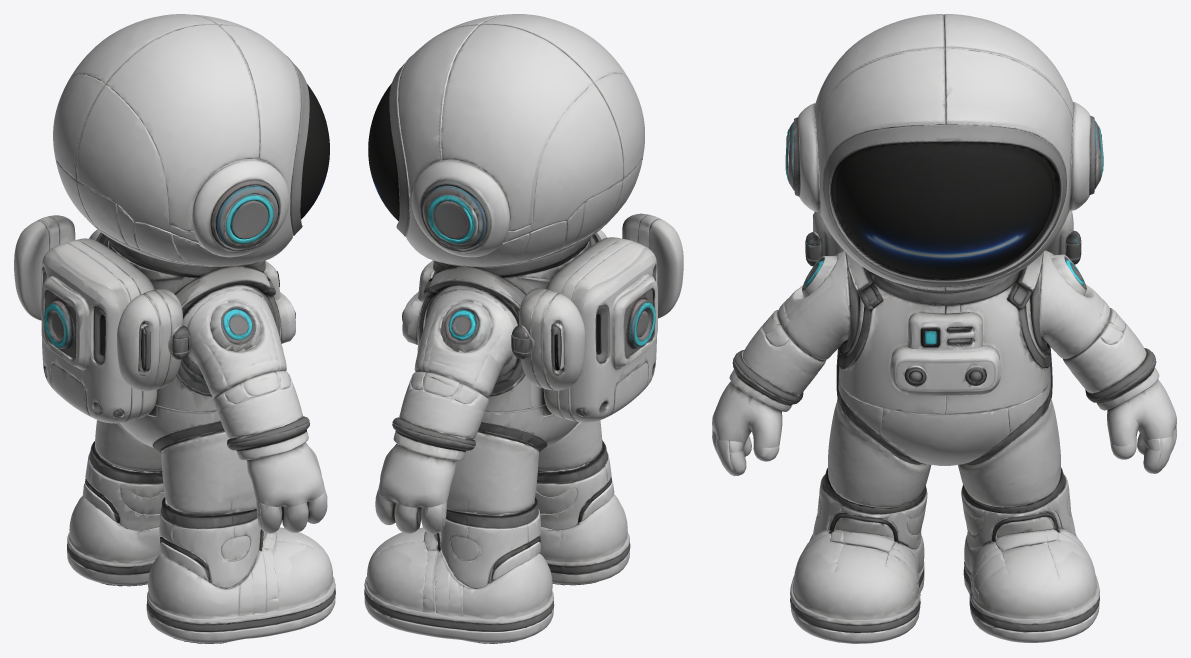
File: nexo-source.glb
The picture shows the model from 3 angles, left to right: view 1: azimuth 30°, elevation 25°; view 2: azimuth 150°, elevation 25°; view 3: azimuth 270°, elevation 25°; orthographic projection. The views are drawn at different scales.
Parts seen in each view (by area): view 1: tripo_node_bbe6ad9d-a236-4c97-b011-82094a7a55ee; view 2: tripo_node_bbe6ad9d-a236-4c97-b011-82094a7a55ee; view 3: tripo_node_bbe6ad9d-a236-4c97-b011-82094a7a55ee.
Boxes of the visible parts, box(x1,y1,x2,y2) form: tripo_node_bbe6ad9d-a236-4c97-b011-82094a7a55ee: box(14, 14, 335, 643); tripo_node_bbe6ad9d-a236-4c97-b011-82094a7a55ee: box(364, 14, 683, 643); tripo_node_bbe6ad9d-a236-4c97-b011-82094a7a55ee: box(712, 14, 1176, 643).
Size of the model in its own units: 0.4743 by 0.9795 by 0.7178.
1 material, 1 textured.
